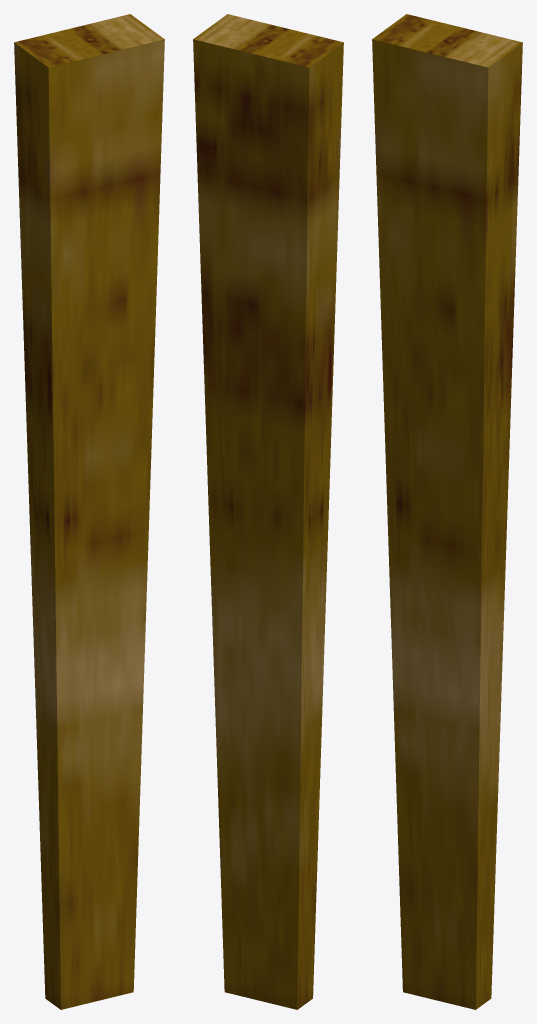
File: Wood Plank.fbx
3 views of the same model, side by side, from view 1: azimuth 30°, elevation 25°; view 2: azimuth 150°, elevation 25°; view 3: azimuth 330°, elevation 25° (orthographic).
Parts seen in each view (by area): view 1: Cube; view 2: Cube; view 3: Cube.
Part boxes in pixels (x1=…): Cube: x1=14, y1=14, x2=164, y2=1009; Cube: x1=193, y1=14, x2=343, y2=1009; Cube: x1=372, y1=14, x2=522, y2=1009.
Size of the model in its own units: 108 by 849 by 55.66.
1 material, 1 textured.
